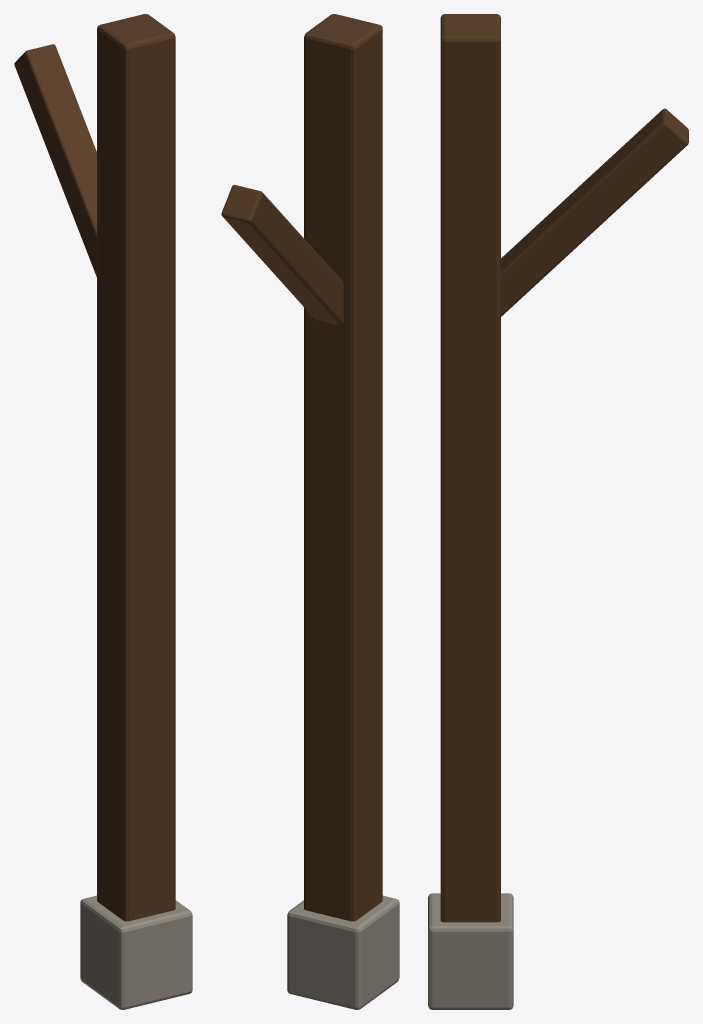
Rendered from SM_HH_Art_WallPost.fbx.
3 renders of one model, left to right at view 1: azimuth 30°, elevation 25°; view 2: azimuth 150°, elevation 25°; view 3: azimuth 270°, elevation 25°, orthographic.
Parts seen in each view (by area): view 1: HH_Art_WallPost; view 2: HH_Art_WallPost; view 3: HH_Art_WallPost.
Part boxes in pixels (left/top/right/bottom): HH_Art_WallPost: left=14, top=14, right=192, bottom=1009; HH_Art_WallPost: left=221, top=14, right=399, bottom=1009; HH_Art_WallPost: left=428, top=14, right=688, bottom=1009.
Bounding box in the file's own units: 0.7323 × 0.24 × 3.
